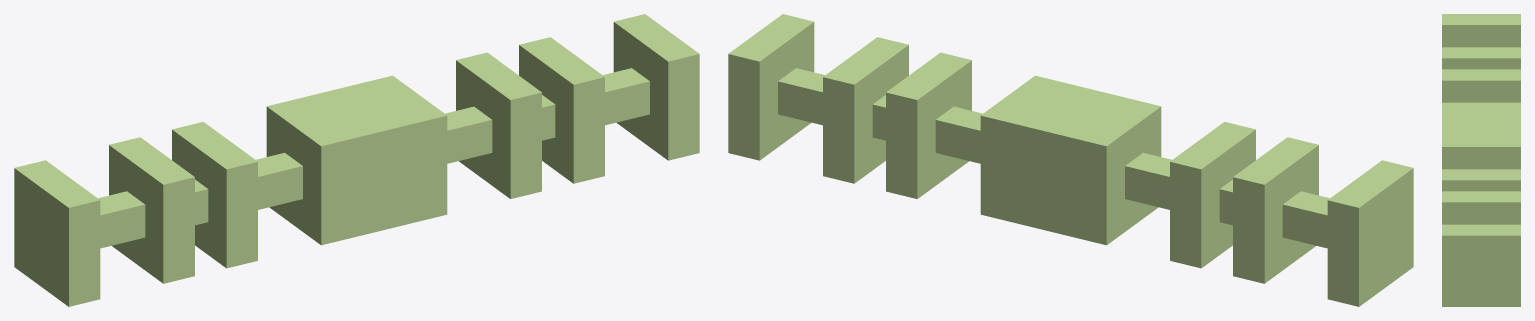
The model's file is Hunter_05.fbx.
The picture shows the model from 3 angles, left to right: view 1: azimuth 30°, elevation 25°; view 2: azimuth 150°, elevation 25°; view 3: azimuth 270°, elevation 25°; orthographic projection. The views are drawn at different scales.
Visible parts, largest first — view 1: Hunter_05; view 2: Hunter_05; view 3: Hunter_05.
Boxes of the visible parts, left/top/right/bottom form: Hunter_05: left=14, top=14, right=699, bottom=306; Hunter_05: left=728, top=14, right=1413, bottom=306; Hunter_05: left=1442, top=14, right=1520, bottom=306.
Bounding box in the file's own units: 2000 × 300 × 300.
